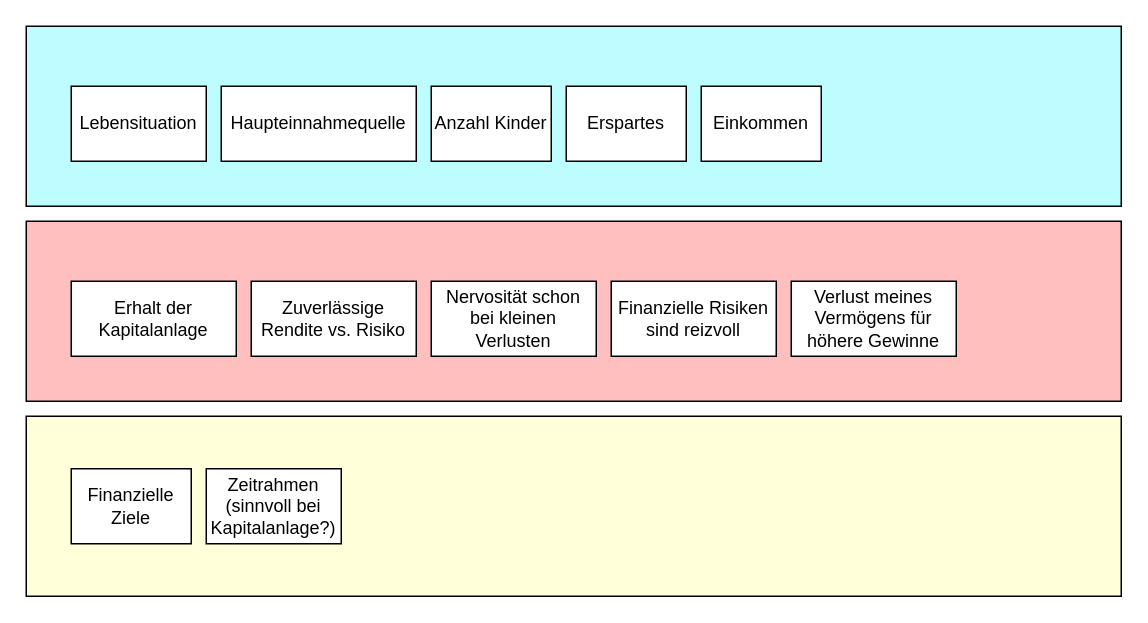
Image size: 1148x623. Some labels were removed from this diagram. The box of each missing label's shape, as (x1, y1, x2, y2) in pixels:
Finanzielle Ziele (soll): (25, 415, 1121, 596)
Persönliche Lebenssituation (ist): (25, 25, 1121, 206)
Risikoprofil: (25, 220, 1121, 401)
